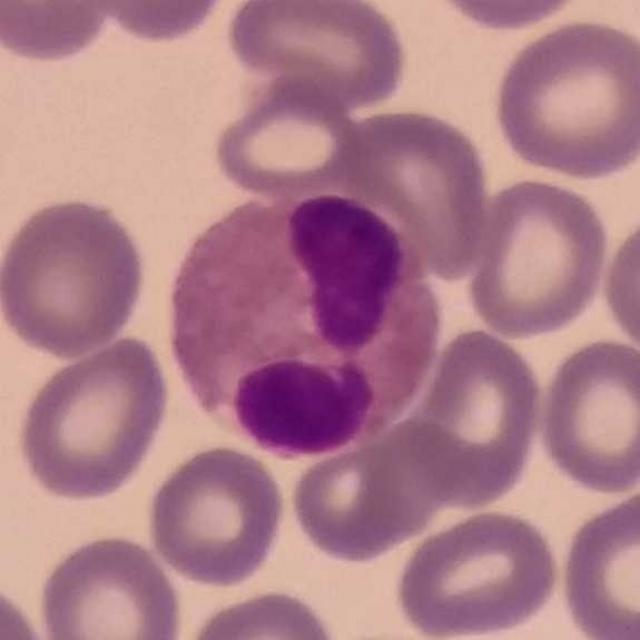RBC: (165, 185, 447, 458), (333, 103, 494, 285), (12, 333, 174, 504), (406, 323, 546, 511), (488, 15, 640, 183), (0, 192, 150, 361), (285, 416, 450, 568), (464, 174, 613, 340), (392, 505, 564, 639), (220, 0, 412, 116), (143, 442, 290, 590), (208, 74, 372, 202), (534, 334, 640, 496), (34, 530, 187, 640), (555, 483, 640, 640), (180, 585, 343, 640), (0, 0, 122, 65), (67, 0, 236, 46), (597, 207, 640, 364), (425, 0, 594, 33), (0, 576, 53, 640)
